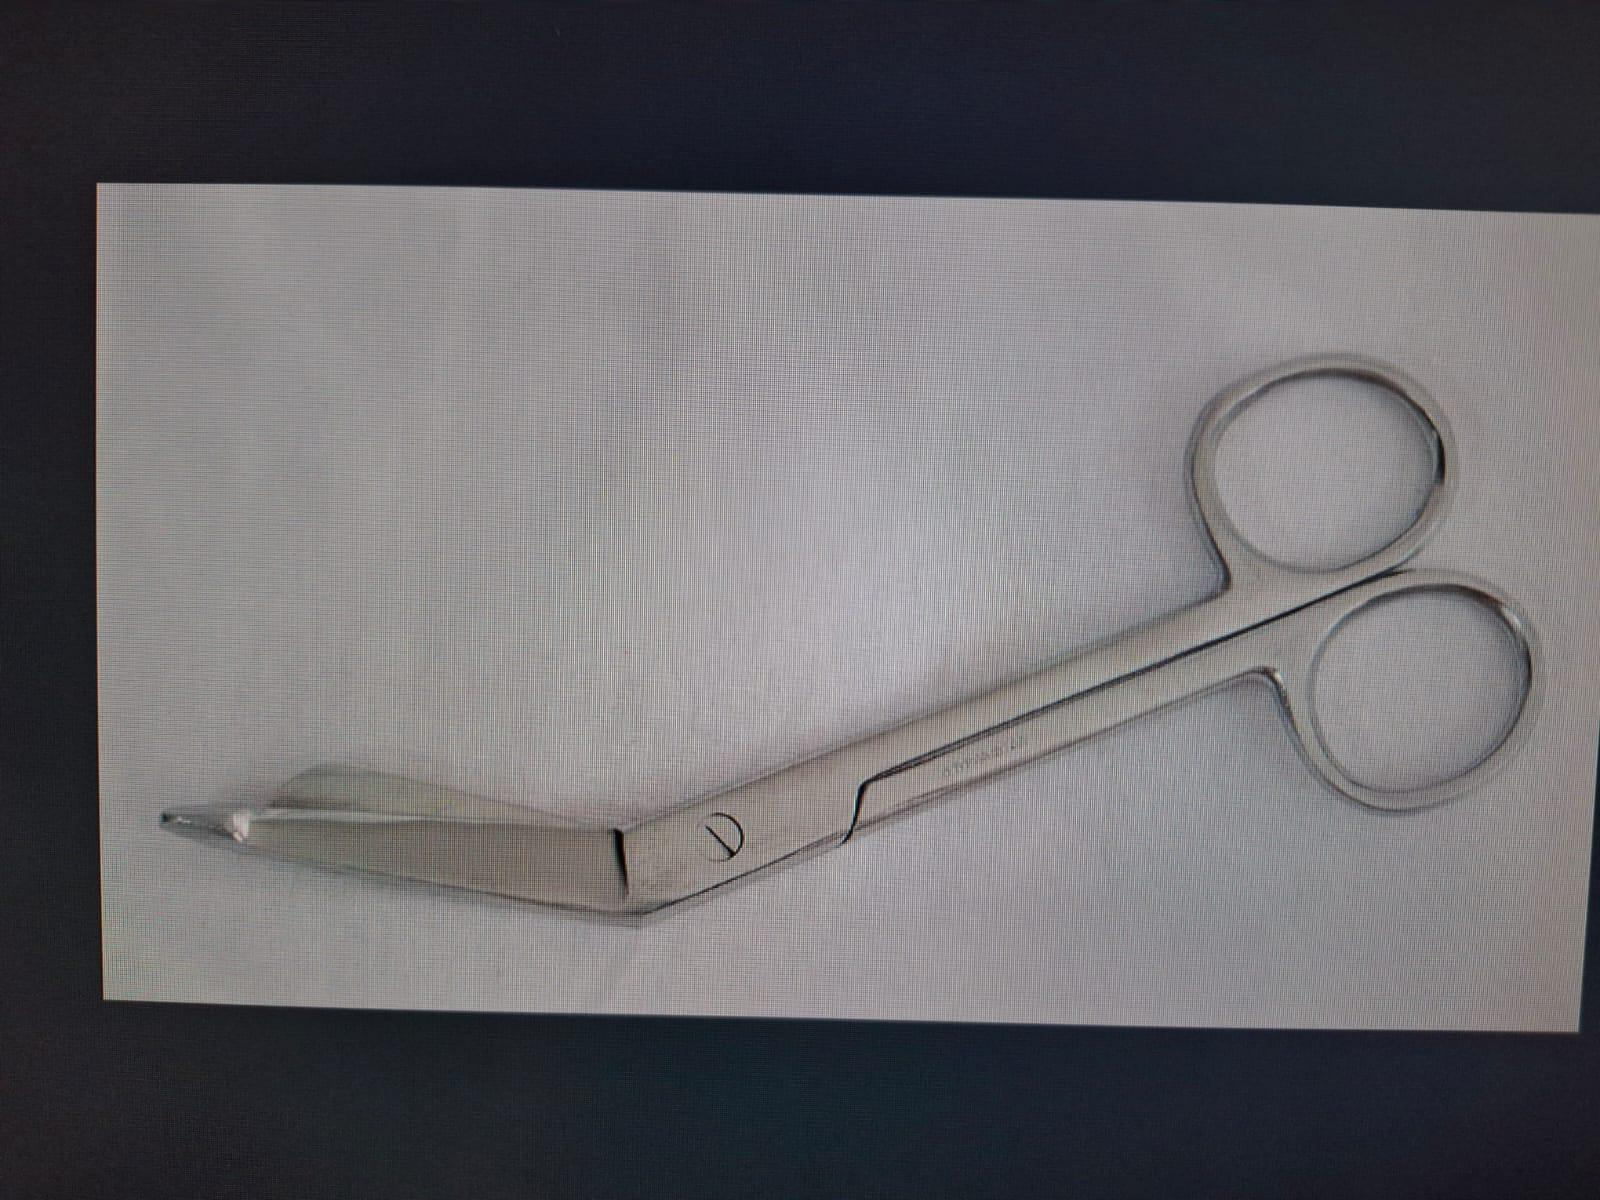Bandage Sciccors: (156, 340, 1566, 936)
